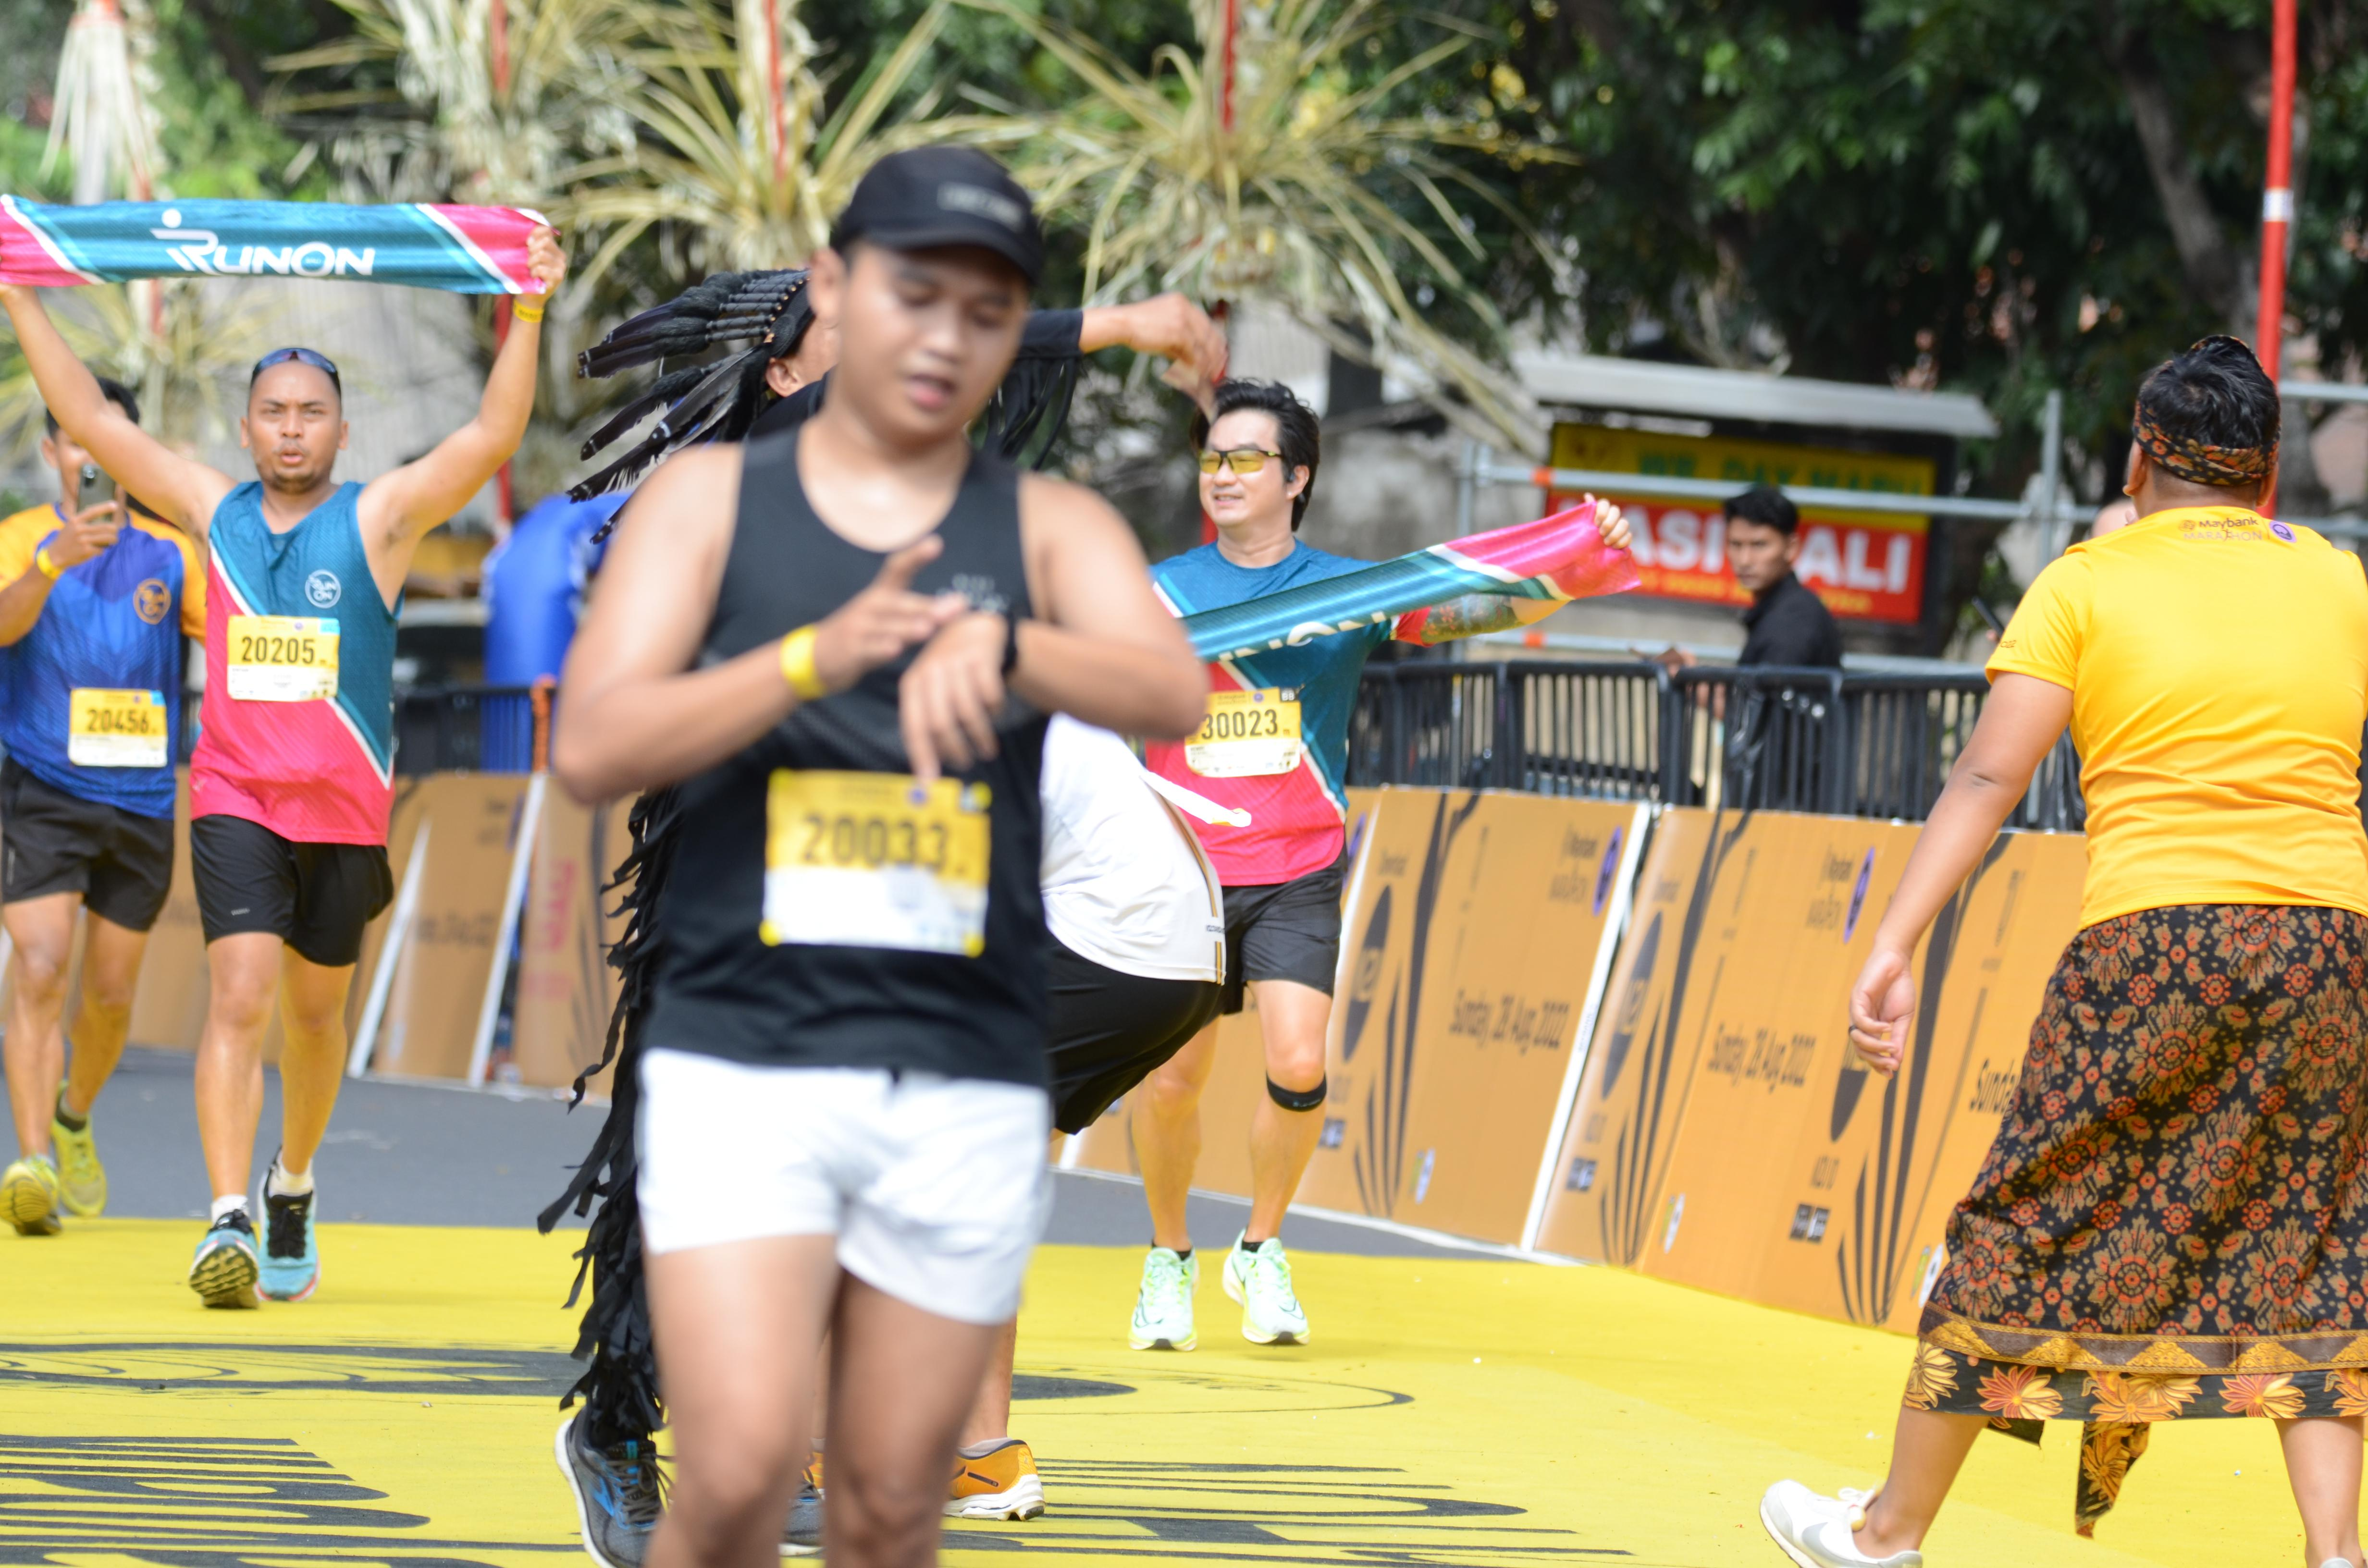bib: (765, 765, 989, 957), (1190, 691, 1304, 777), (228, 618, 340, 700), (67, 688, 170, 766)
